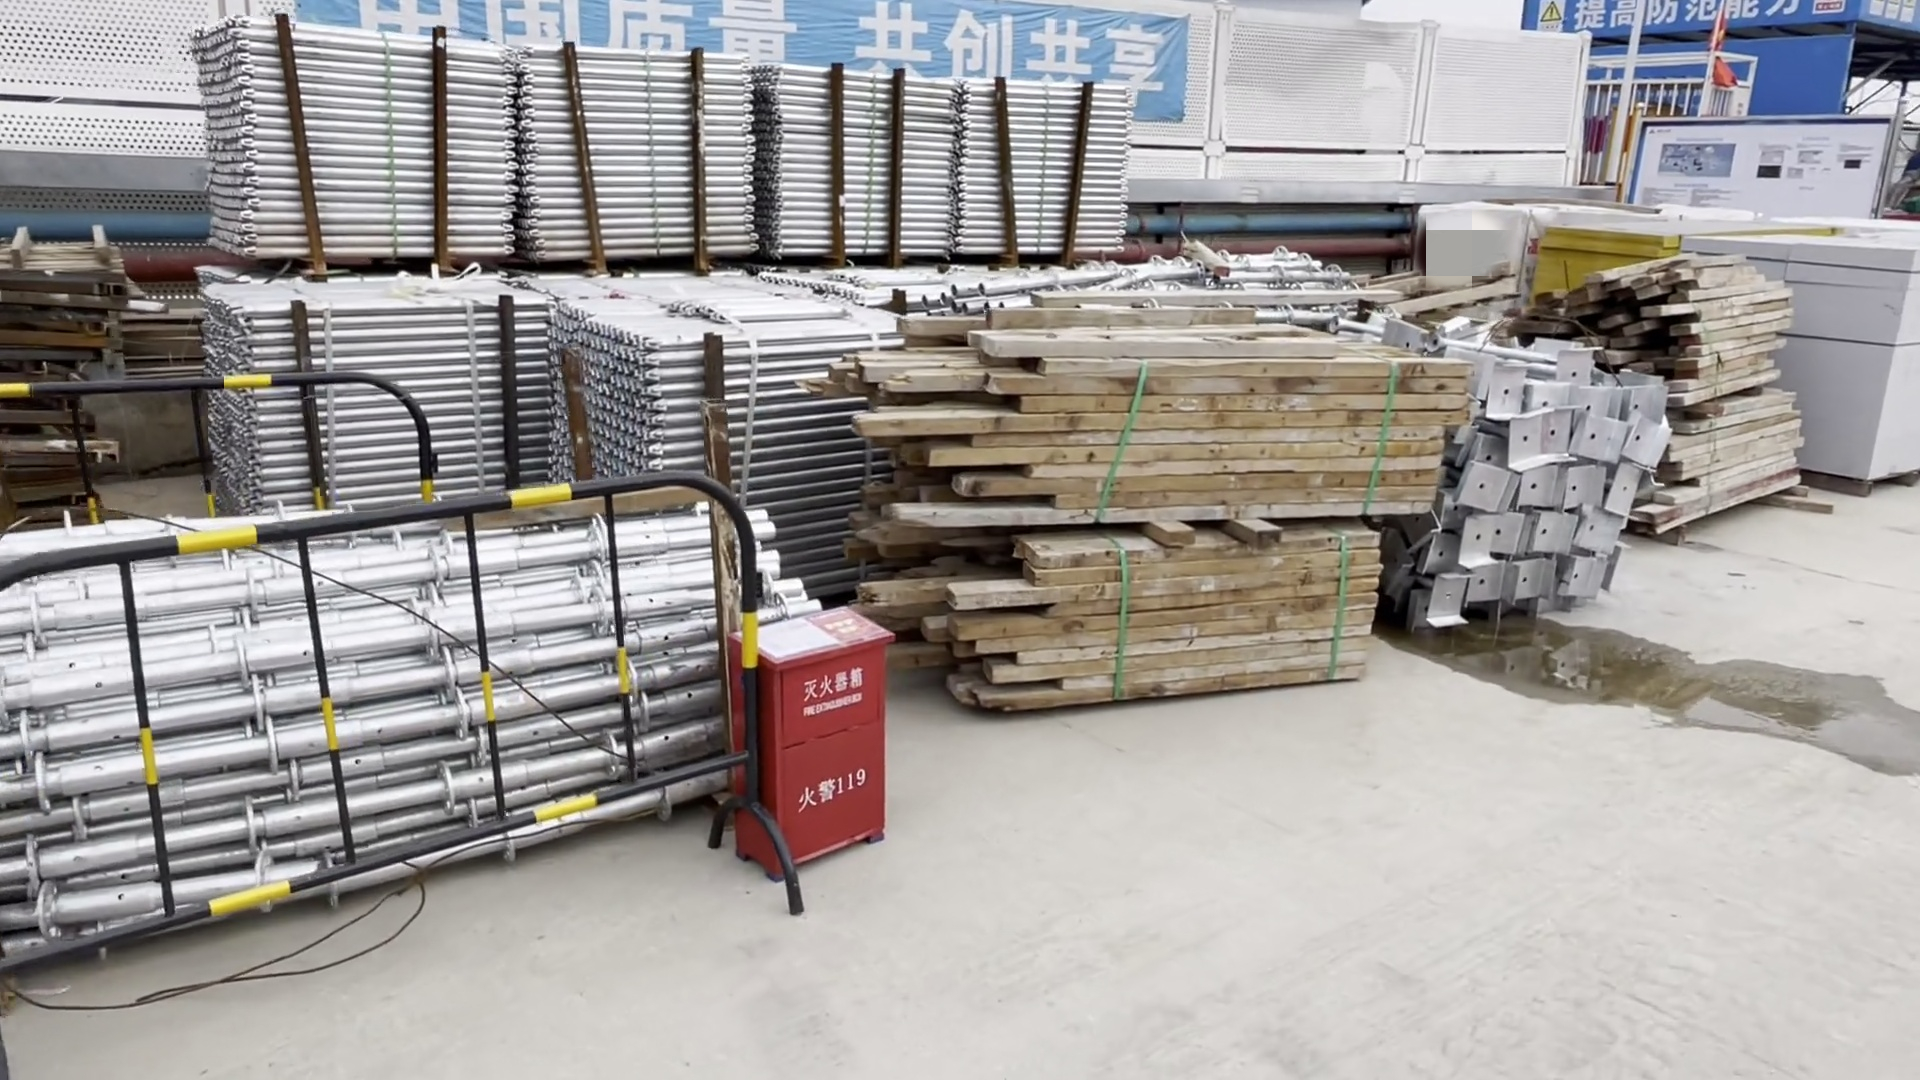scaffold: (196, 16, 1164, 525), (25, 509, 767, 944)
slogan: (857, 1, 1174, 113)
wood: (880, 316, 1458, 749), (1652, 276, 1801, 542)
